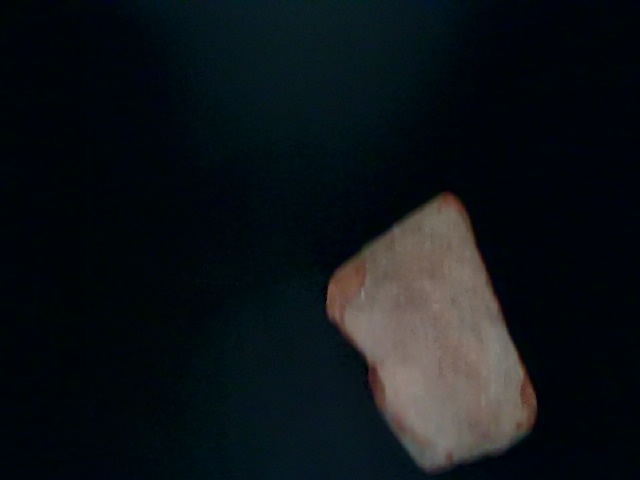KHSLJ: (1, 278, 281, 478)
